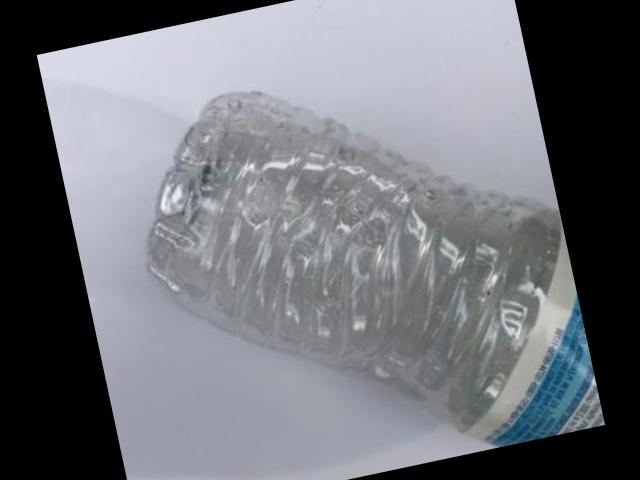plastic: (145, 92, 605, 447)
